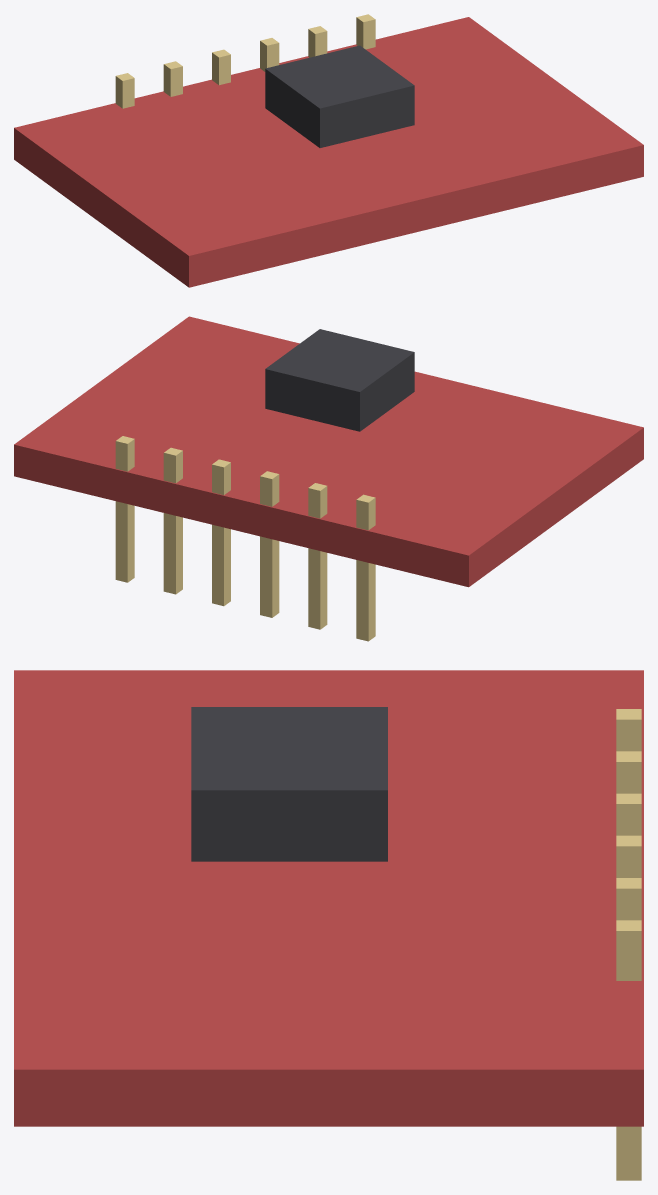
The model's file is bmp280.glb.
The picture shows the model from 3 angles, top to bottom: view 1: azimuth 30°, elevation 25°; view 2: azimuth 150°, elevation 25°; view 3: azimuth 270°, elevation 25°; orthographic projection. The views are drawn at different scales.
Parts seen in each view (by area): view 1: pcb, sensor-package, header; view 2: pcb, header, sensor-package; view 3: pcb, sensor-package, header.
Part boxes in pixels (x1=…): pcb: x1=14, y1=17, x2=643, y2=287; sensor-package: x1=265, y1=45, x2=414, y2=147; header: x1=115, y1=14, x2=375, y2=108; pcb: x1=14, y1=316, x2=643, y2=587; header: x1=115, y1=436, x2=375, y2=641; sensor-package: x1=265, y1=329, x2=414, y2=431; pcb: x1=14, y1=670, x2=643, y2=1126; sensor-package: x1=191, y1=707, x2=387, y2=861; header: x1=616, y1=709, x2=641, y2=1180.
Size of the model in its own units: 0.024 by 0.009 by 0.016.
